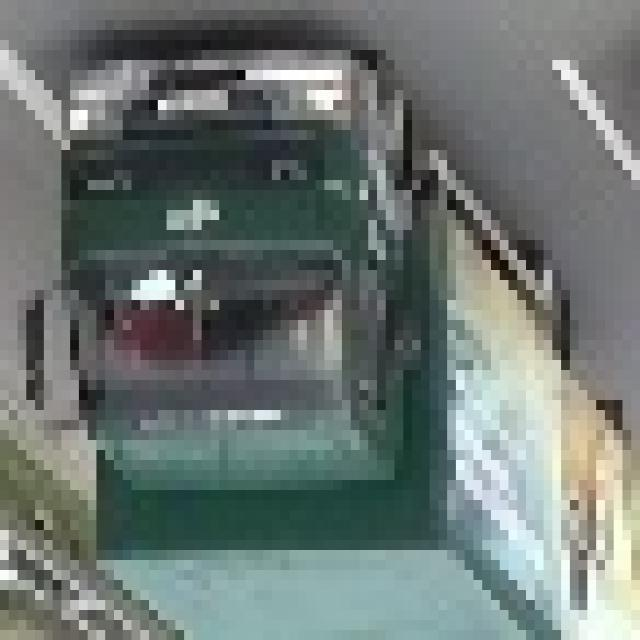truck: (26, 50, 640, 640)
